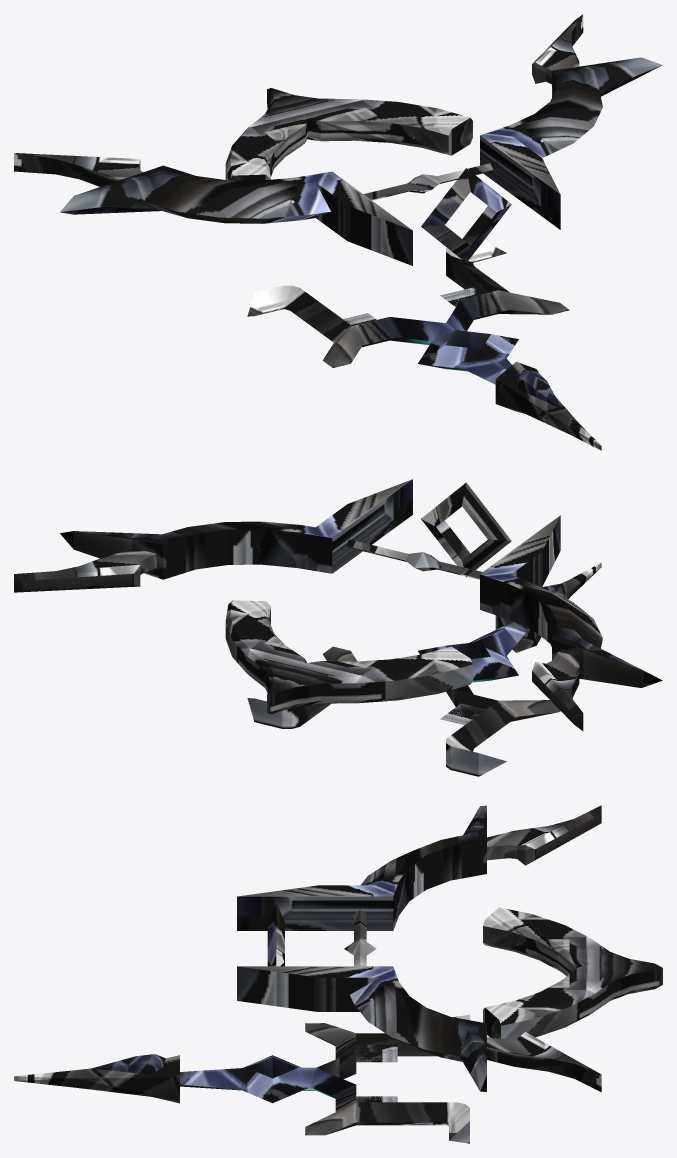
The model's file is aqua.obj.
3 renders of one model, top to bottom at view 1: azimuth 30°, elevation 25°; view 2: azimuth 150°, elevation 25°; view 3: azimuth 270°, elevation 25°, orthographic. The views are drawn at different scales.
Size of the model in its own units: 3.65 by 1.2 by 3.51.
